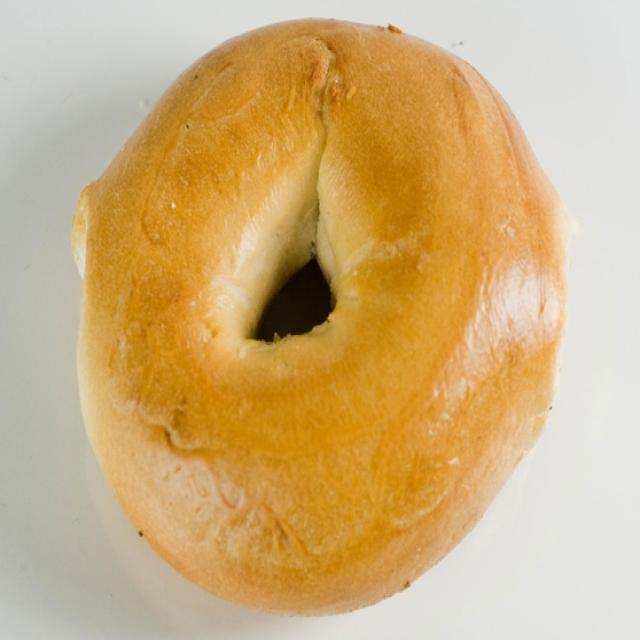面包点心: (31, 13, 603, 620)
